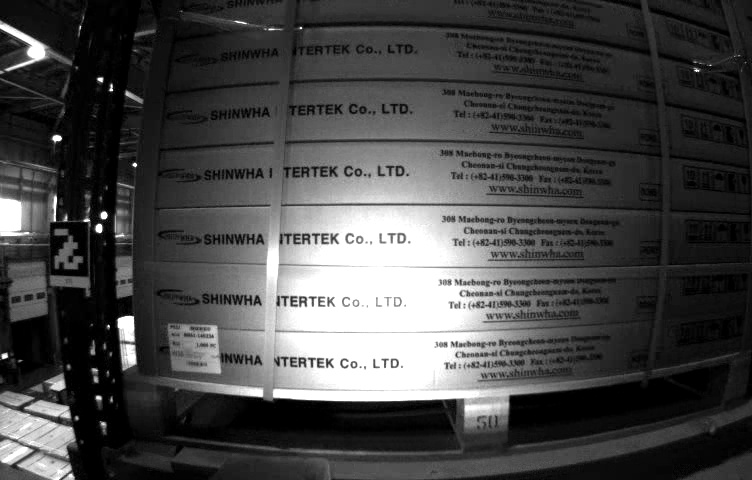True Barcode: (162, 319, 224, 378)
